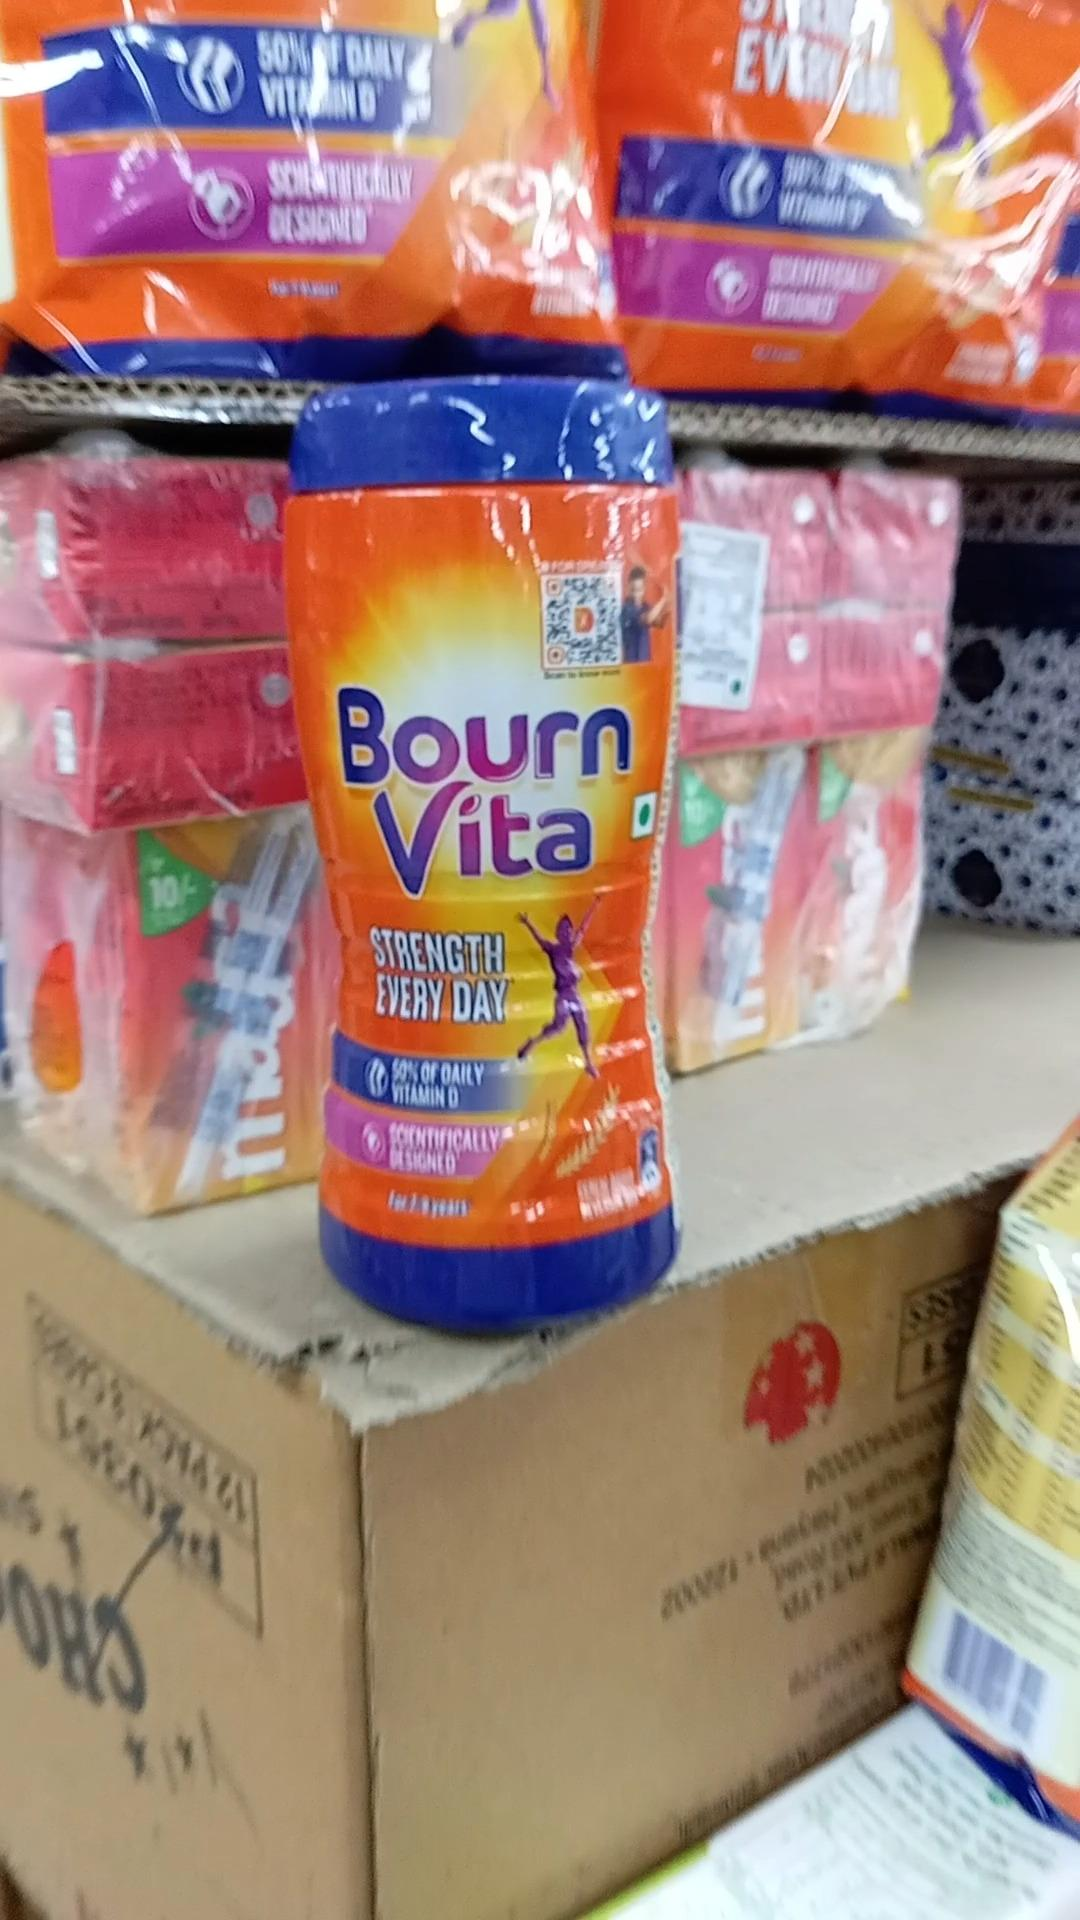BOURN_VITA_200_G_JAR: (290, 371, 670, 1323)
